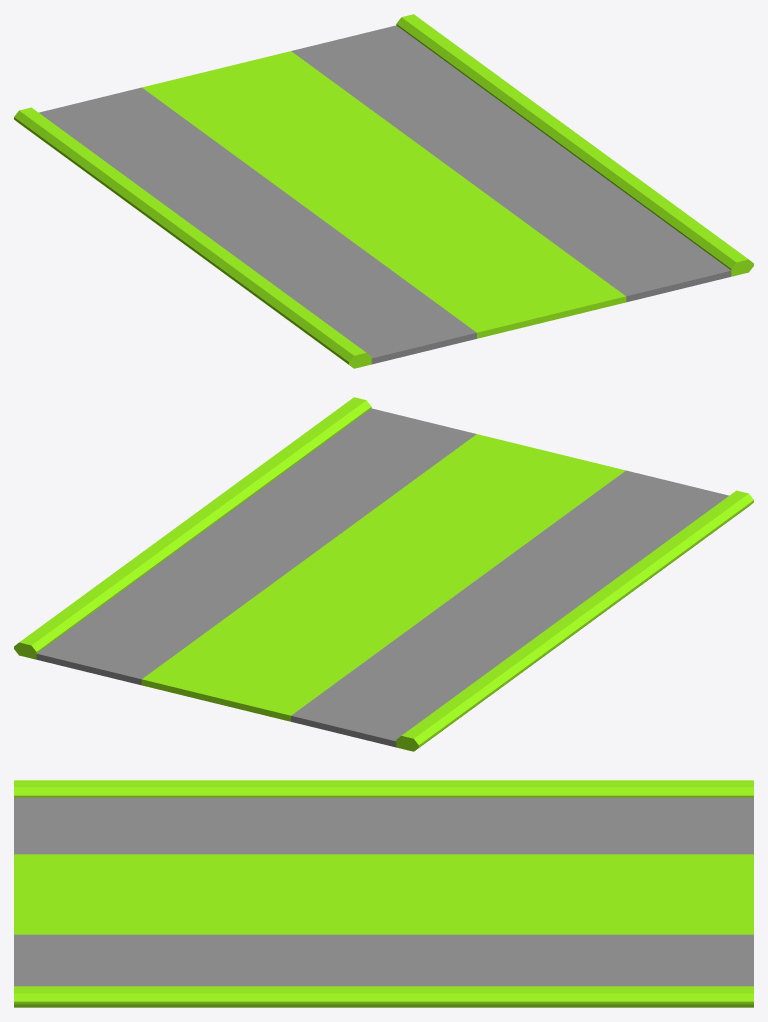
Rendered from ramp flat 2.FBX.
3 views of the same model, one above another, from view 1: azimuth 30°, elevation 25°; view 2: azimuth 150°, elevation 25°; view 3: azimuth 270°, elevation 25° (orthographic). The views are drawn at different scales.
Parts seen in each view (by area): view 1: Box001; view 2: Box001; view 3: Box001.
Part boxes in pixels (x1=…): Box001: x1=14, y1=14, x2=753, y2=368; Box001: x1=14, y1=397, x2=753, y2=751; Box001: x1=14, y1=780, x2=753, y2=1007.
Bounding box in the file's own units: 0.1904 × 0.00585 × 0.2729.
